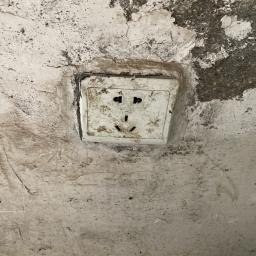outlet: (64, 68, 190, 154)
